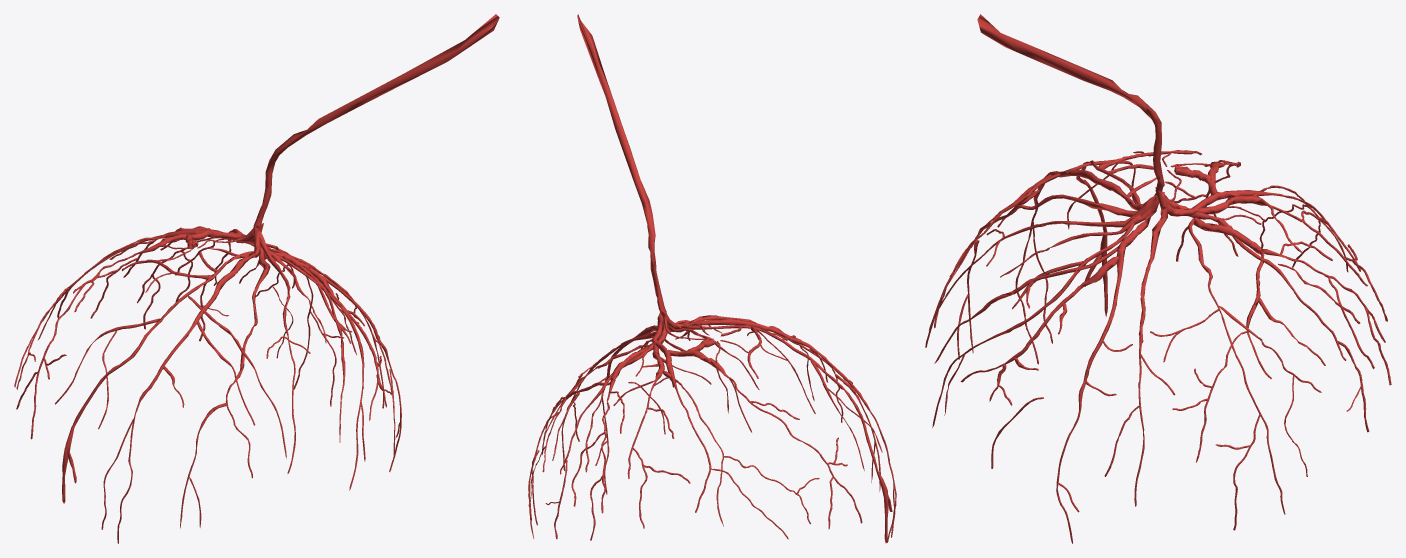
3 views of the same model, side by side, from view 1: azimuth 30°, elevation 25°; view 2: azimuth 150°, elevation 25°; view 3: azimuth 270°, elevation 25° (orthographic). The views are drawn at different scales.
Visible parts, largest first — view 1: 右侧视网膜中央动脉; view 2: 右侧视网膜中央动脉; view 3: 右侧视网膜中央动脉.
Part boxes in pixels (x1,y1,x2,y2): 右侧视网膜中央动脉: [14, 14, 499, 543]; 右侧视网膜中央动脉: [528, 14, 896, 543]; 右侧视网膜中央动脉: [925, 14, 1391, 543].
Size of the model in its own units: 0.043 by 0.0499 by 0.037.
